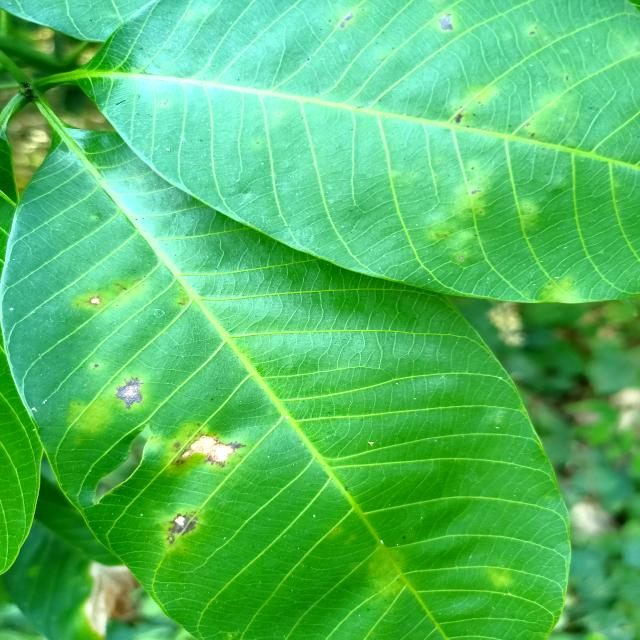Leaf-Blight: (182, 435, 234, 463), (175, 516, 184, 524)
